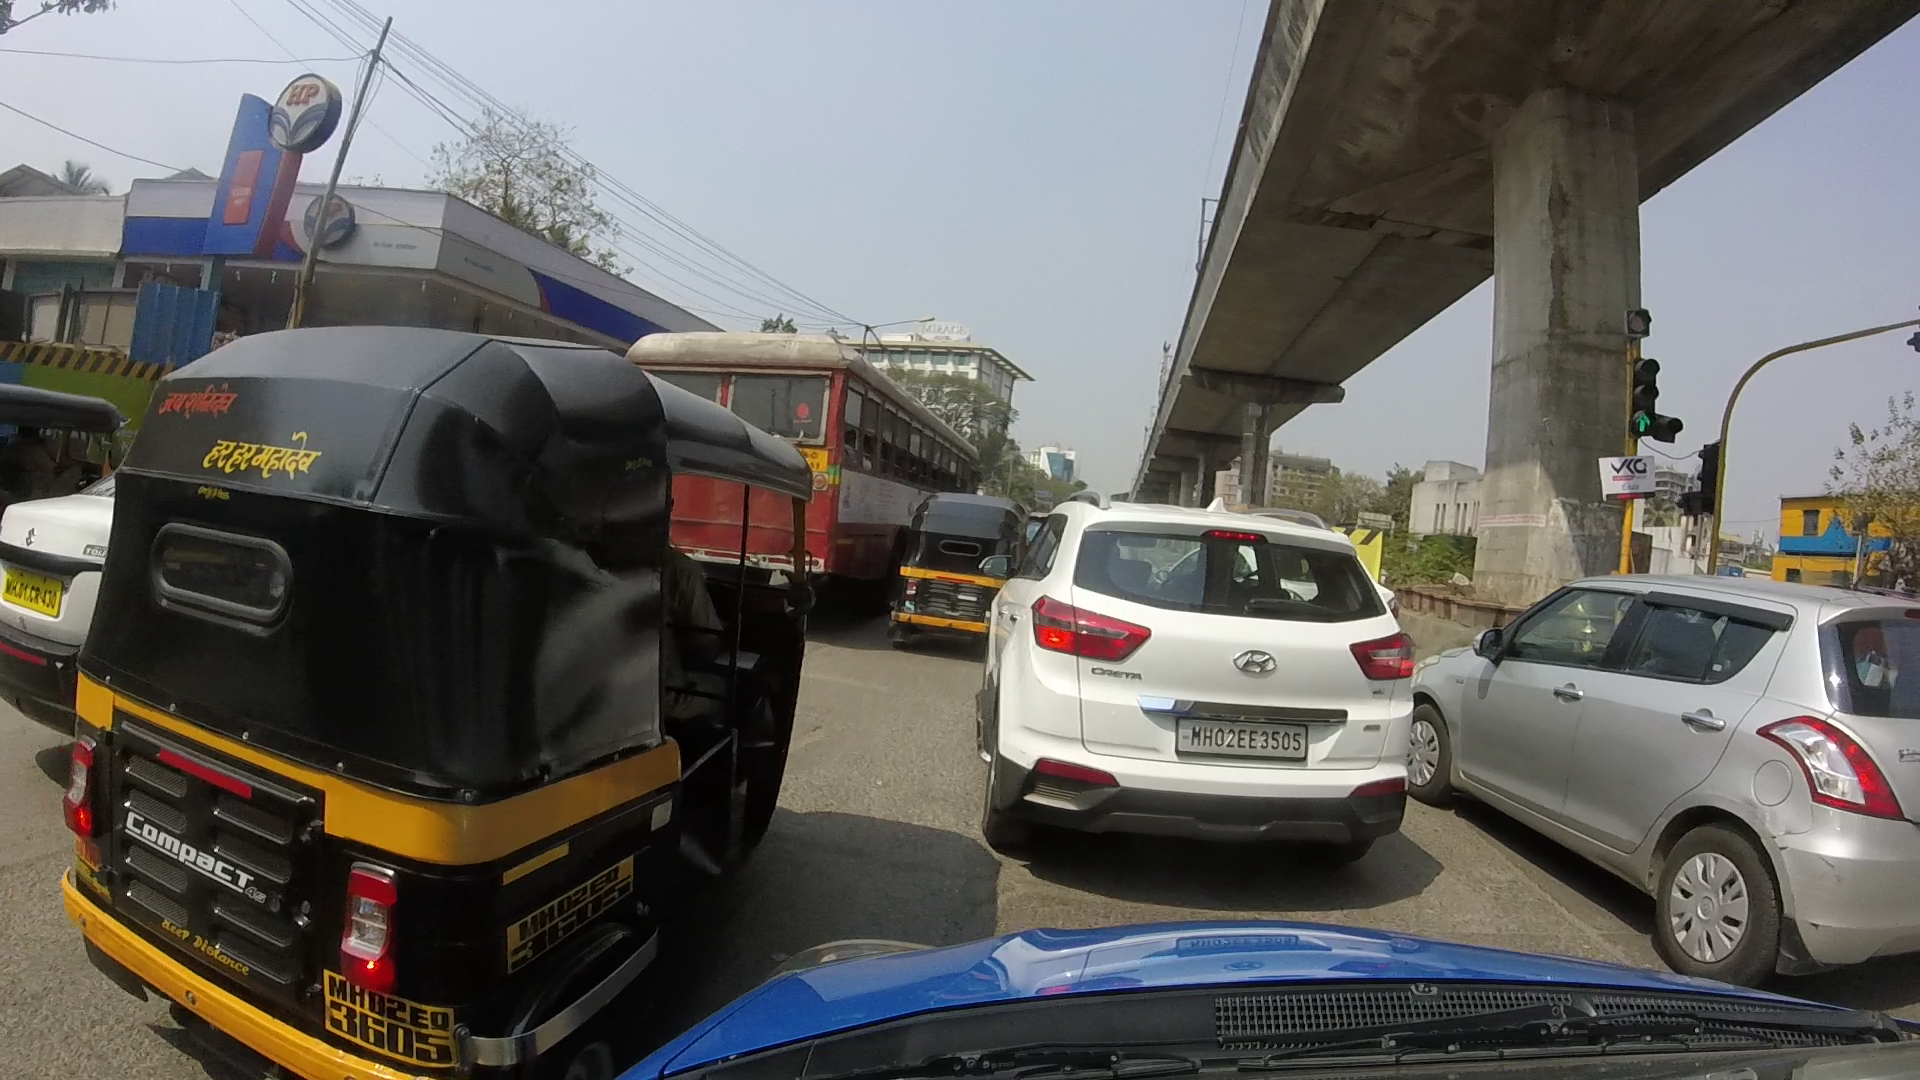bus: (549, 260, 1004, 616)
car: (1424, 556, 1920, 981), (986, 501, 1418, 862), (4, 440, 193, 728)
rickshaw: (65, 340, 827, 1075), (884, 454, 1021, 680)
